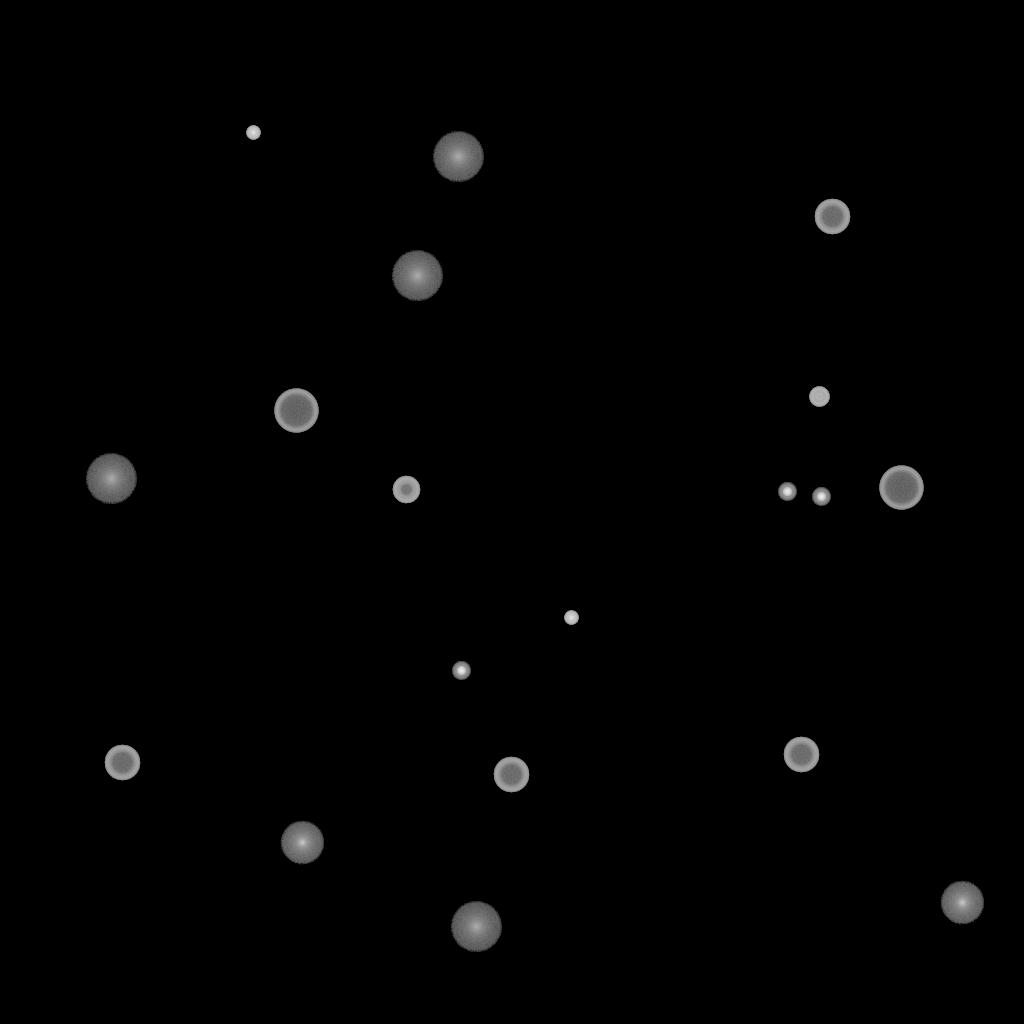depth:-20: (778, 483, 796, 501), (812, 488, 830, 506), (452, 662, 470, 680)
depth:-30: (246, 126, 260, 140), (564, 611, 578, 625)
depth:-40: (809, 387, 829, 407)
depth:-50: (392, 476, 420, 504)
depth:-60: (104, 745, 140, 781), (814, 199, 850, 235), (493, 757, 529, 793), (783, 737, 819, 773)
depth:-70: (274, 389, 318, 433), (879, 466, 923, 510)
depth:10: (940, 881, 984, 925), (280, 821, 324, 865)
depth:20: (432, 132, 484, 182), (85, 454, 137, 504), (450, 902, 502, 952), (391, 251, 443, 301)
